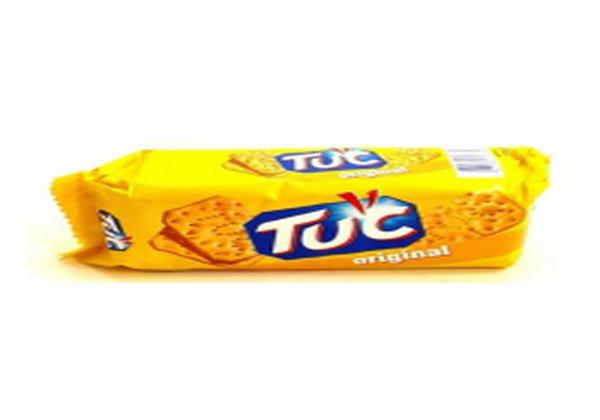crackers tuc: (146, 152, 523, 276)
